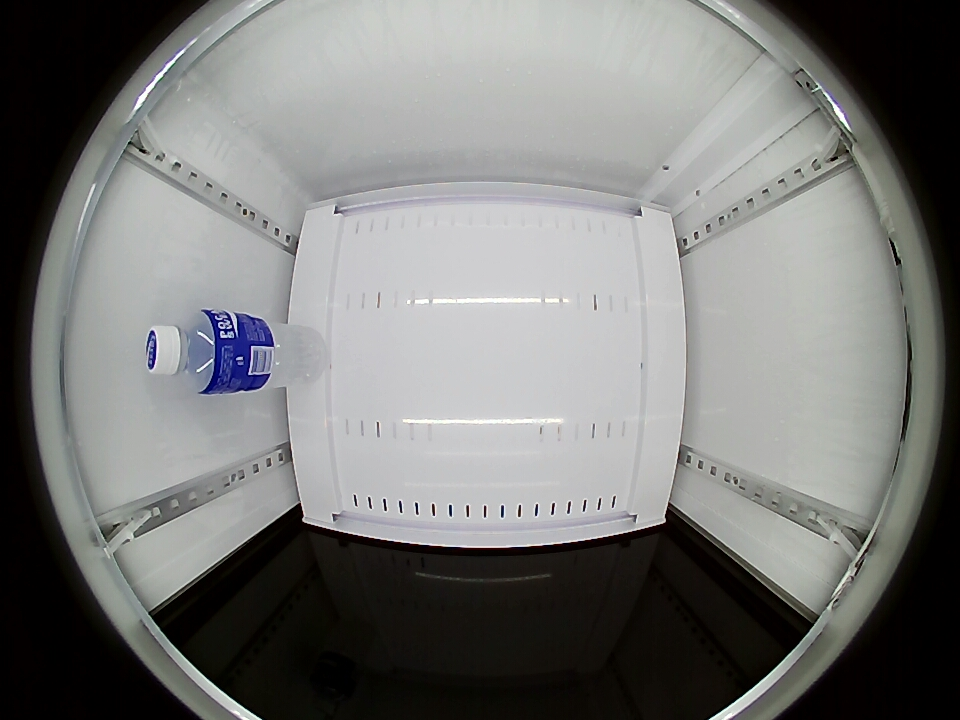baokuangli: (145, 309, 237, 395)
